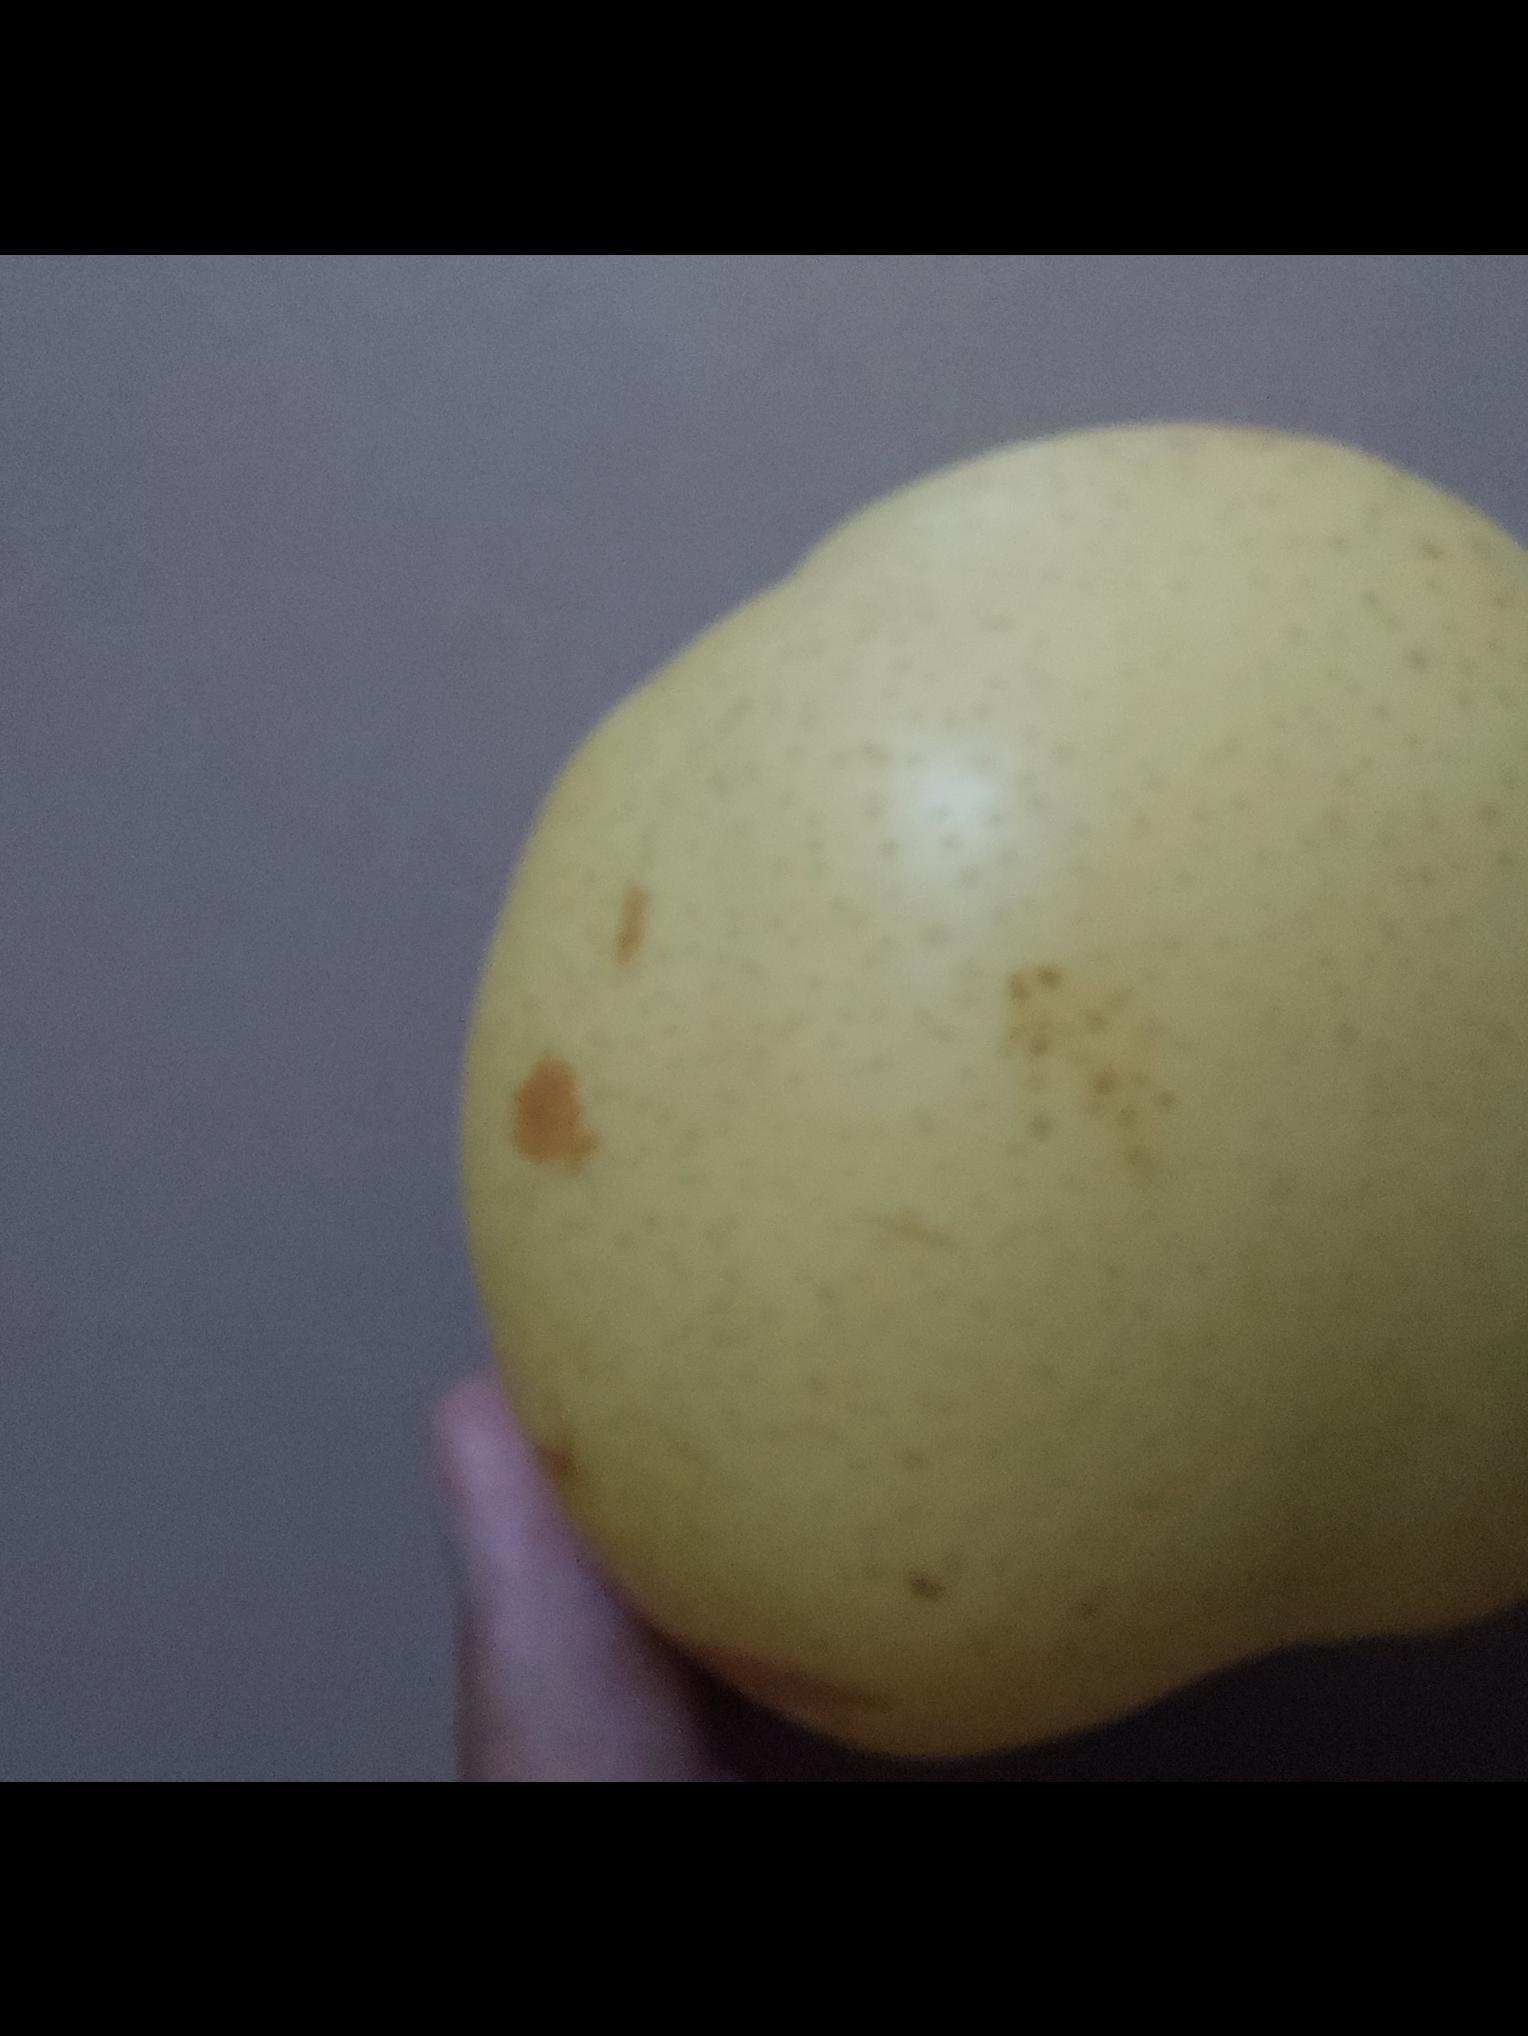Good Pear: (440, 411, 1528, 1746)
